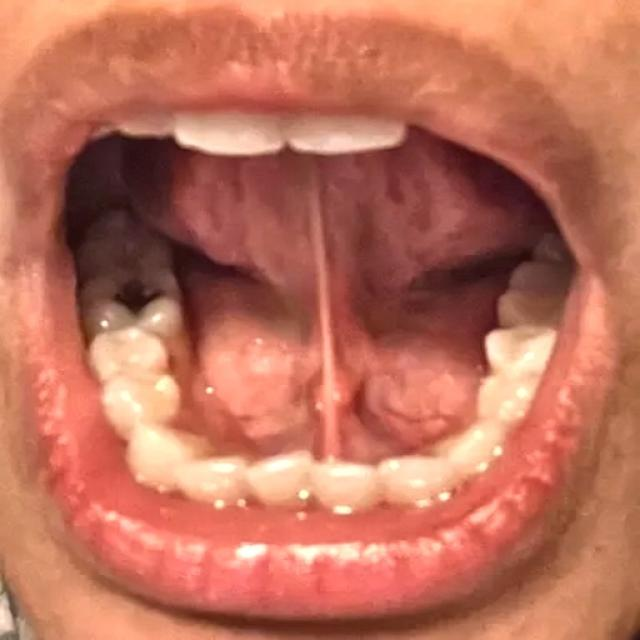processing_area: (130, 129, 548, 456)
